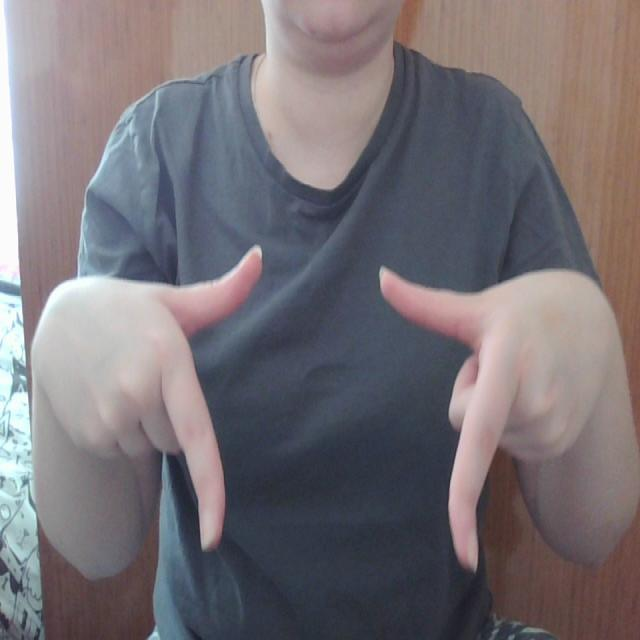Nerede: (145, 238, 521, 580)
